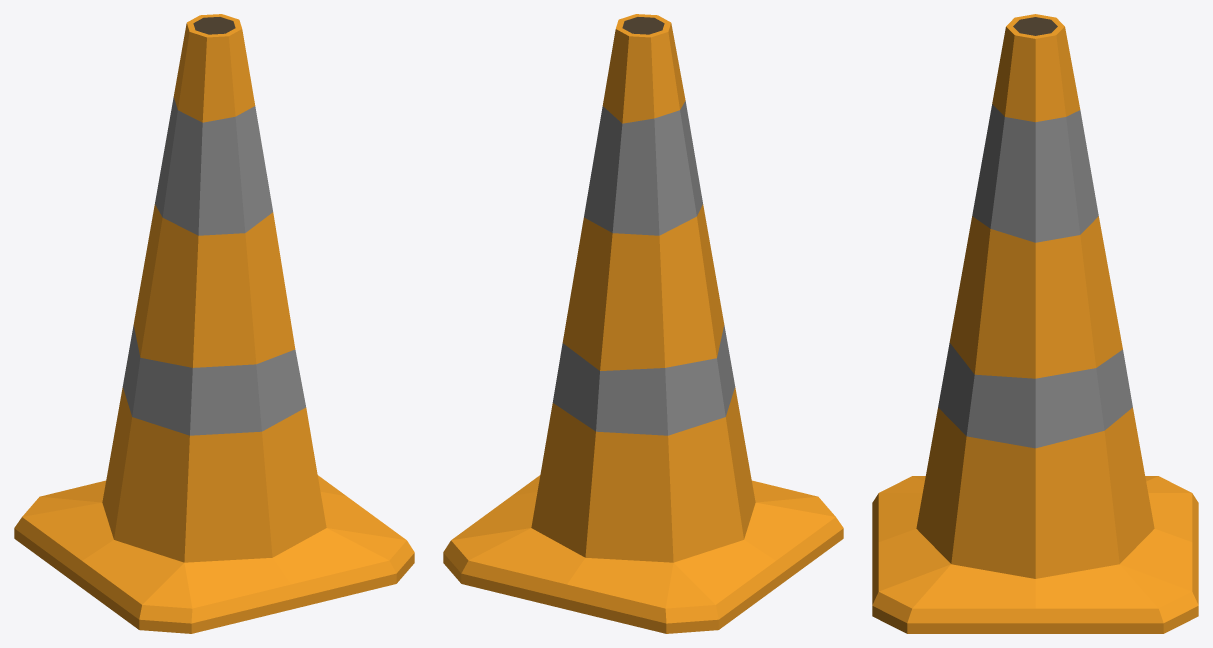
File: SM_Prop_Cone_01.fbx
3 renders of one model, left to right at view 1: azimuth 30°, elevation 25°; view 2: azimuth 150°, elevation 25°; view 3: azimuth 270°, elevation 25°, orthographic. The views are drawn at different scales.
Visible parts, largest first — view 1: SM_Prop_Cone_01; view 2: SM_Prop_Cone_01; view 3: SM_Prop_Cone_01.
Boxes of the visible parts, <box> form: SM_Prop_Cone_01: <box>14,14,414,633</box>; SM_Prop_Cone_01: <box>443,14,843,633</box>; SM_Prop_Cone_01: <box>872,14,1198,633</box>.
Size of the model in its own units: 45.32 by 82.5 by 45.32.
